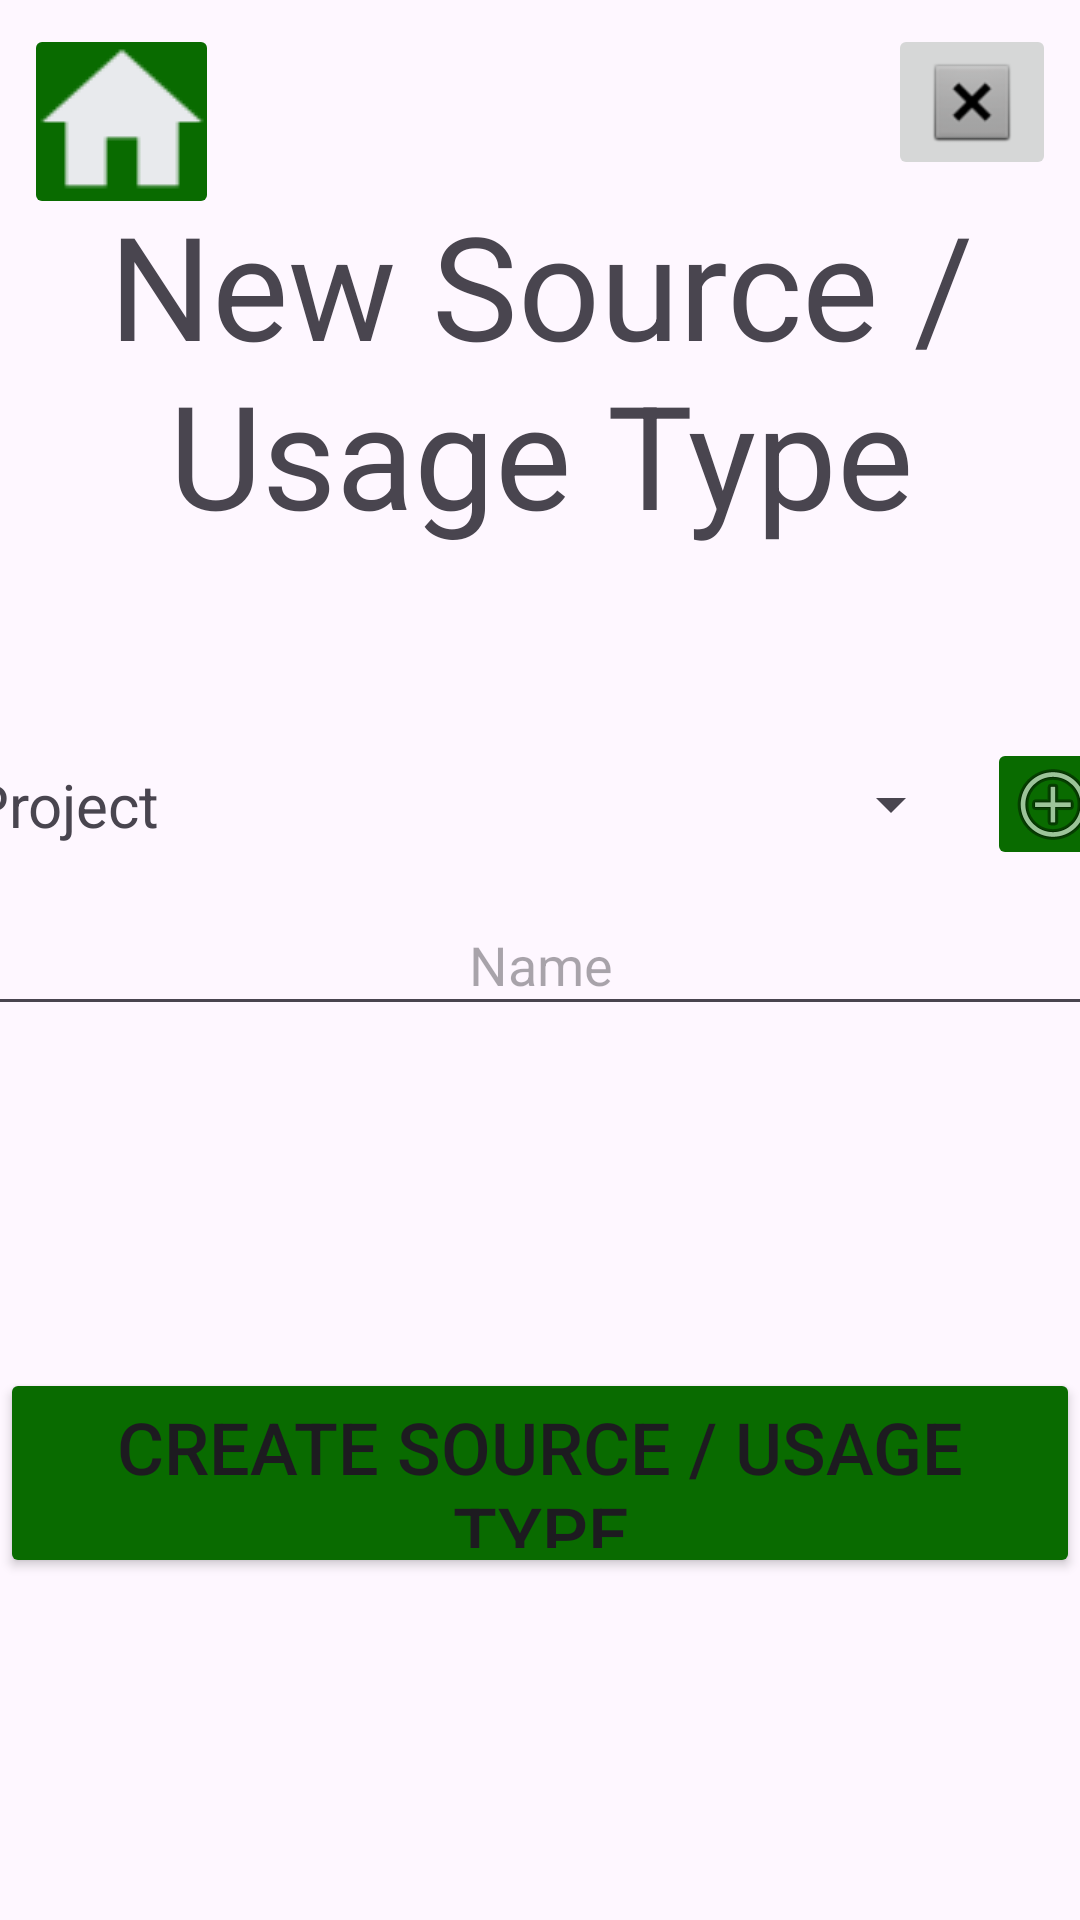

Where to tap for icons on this 1080w x 1920h app screen, as (x,y):
homebtn: (121,121)
